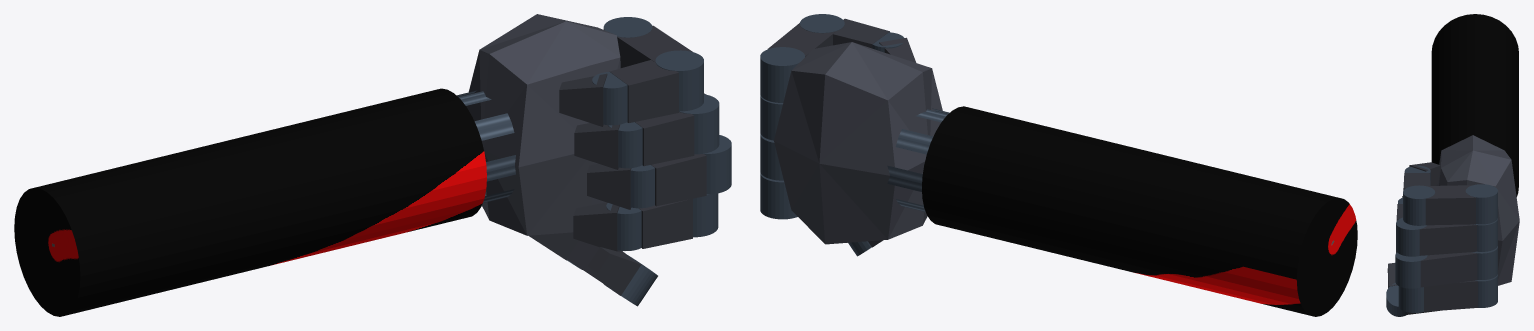
The model's file is bossAtackArmLeft.obj.
3 renders of one model, left to right at view 1: azimuth 30°, elevation 25°; view 2: azimuth 150°, elevation 25°; view 3: azimuth 270°, elevation 25°, orthographic. The views are drawn at different scales.
Visible parts, largest first — view 1: 円柱.010; view 2: 円柱.010; view 3: 円柱.010.
Boxes of the visible parts, x1,y1,x2,y2 form: 円柱.010: (14,14,731,316); 円柱.010: (760,14,1357,316); 円柱.010: (1386,14,1519,316).
Bounding box in the file's own units: 10.61 × 3.93 × 2.93.
5 materials, 5 textured.
